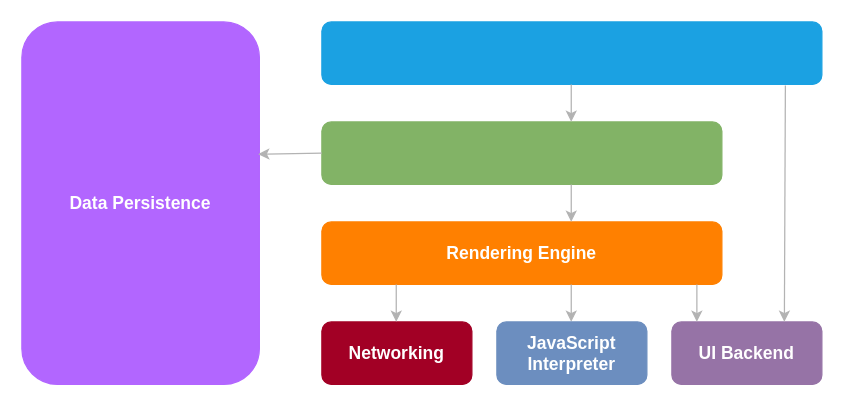
Image size: 844x406. Some labels were removed from this diagram. Here are the shapes that lost their labels. From the top down, the box of each, then its label:
(321, 21, 822, 84): User Interface
(321, 121, 722, 184): Browser Engine
